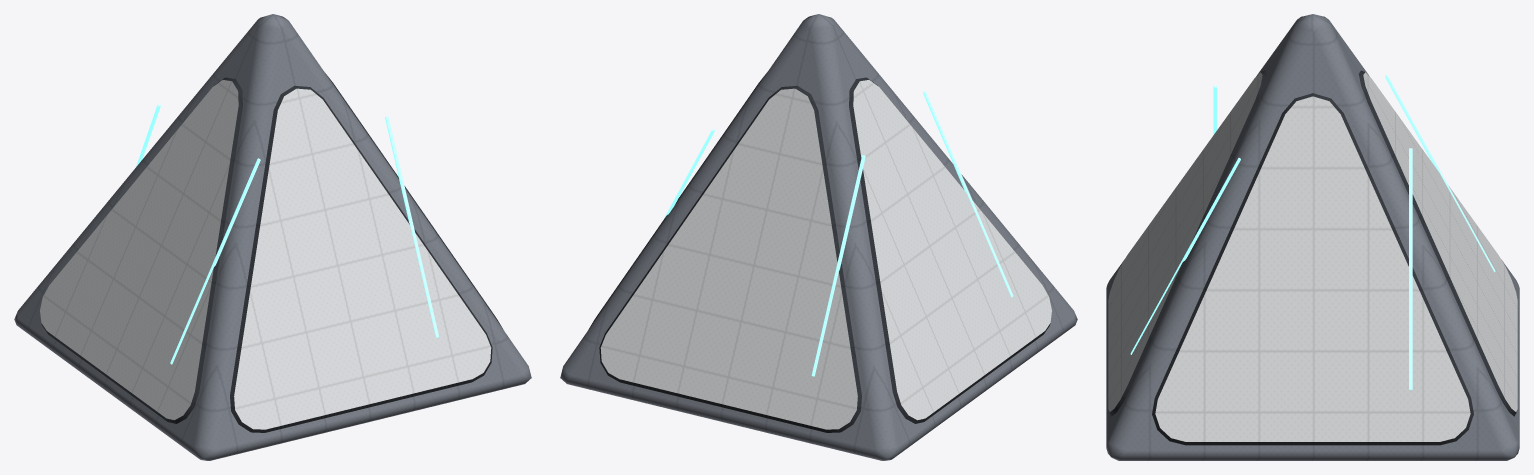
3 renders of one model, left to right at view 1: azimuth 30°, elevation 25°; view 2: azimuth 150°, elevation 25°; view 3: azimuth 270°, elevation 25°, orthographic. The views are drawn at different scales.
Visible parts, largest first — view 1: R4B_Pyramid; view 2: R4B_Pyramid; view 3: R4B_Pyramid.
Boxes of the visible parts, x1,y1,x2,y2 form: R4B_Pyramid: (14, 14, 531, 460); R4B_Pyramid: (560, 14, 1077, 460); R4B_Pyramid: (1106, 14, 1519, 460).
Bounding box in the file's own units: 0.4918 × 0.4807 × 0.4918.
4 materials, 3 textured.
